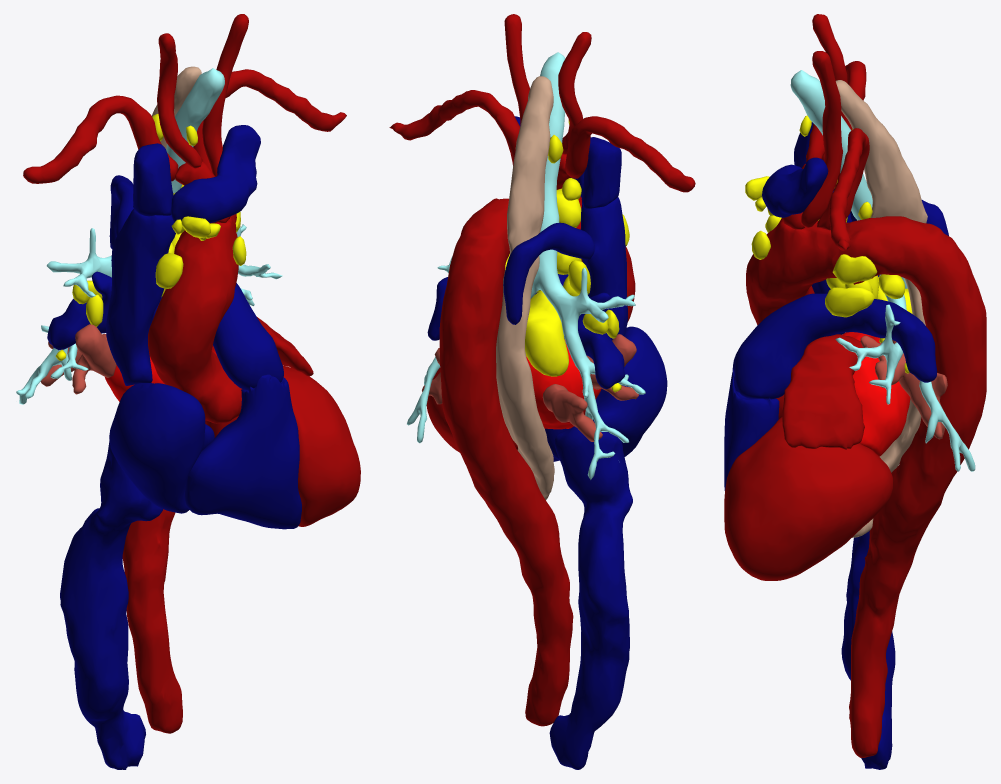
The model's file is CT_segmentation_2.glb.
The picture shows the model from 3 angles, left to right: view 1: azimuth 30°, elevation 25°; view 2: azimuth 150°, elevation 25°; view 3: azimuth 270°, elevation 25°; orthographic projection. The views are drawn at different scales.
Visible parts, largest first — view 1: aorta, inferior vena cava, right ventricle, right atrium, superior vena cava, left ventricle, pulmonary artery, airway, left brachiocephalic vein, right subclavian artery, left subclavian artery, right brachiocephalic vein (+10 smaller); view 2: aorta, inferior vena cava, esophagus, airway, right atrium, superior vena cava, right subclavian artery, azygous vein, pulmonary venous system, Station 7, left subclavian artery, pulmonary artery (+7 smaller); view 3: aorta, left ventricle, pulmonary artery, left atrial appendage, esophagus, airway, left atrium, inferior vena cava, left common carotid artery, right ventricle, left subclavian artery, left brachiocephalic vein (+8 smaller).
Boxes of the visible parts, x1,y1,x2,y2 form: aorta: [122, 214, 242, 733]; inferior vena cava: [60, 440, 162, 769]; right ventricle: [184, 374, 301, 529]; right atrium: [109, 383, 214, 513]; superior vena cava: [106, 209, 175, 385]; left ventricle: [205, 366, 360, 526]; pulmonary artery: [47, 271, 283, 390]; airway: [16, 68, 282, 404]; left brachiocephalic vein: [171, 125, 260, 222]; right subclavian artery: [23, 95, 178, 183]; left subclavian artery: [193, 69, 346, 171]; right brachiocephalic vein: [133, 143, 173, 216]; aorta: [439, 196, 635, 726]; inferior vena cava: [549, 426, 632, 769]; esophagus: [496, 76, 554, 499]; airway: [407, 52, 645, 479]; right atrium: [545, 326, 667, 460]; superior vena cava: [580, 197, 627, 340]; right subclavian artery: [565, 116, 695, 192]; azygous vein: [503, 222, 594, 324]; pulmonary venous system: [422, 334, 638, 441]; Station 7: [525, 290, 568, 376]; left subclavian artery: [389, 90, 519, 165]; pulmonary artery: [427, 274, 624, 389]; aorta: [746, 216, 986, 757]; left ventricle: [724, 417, 892, 580]; pulmonary artery: [734, 275, 937, 399]; left atrial appendage: [782, 334, 865, 449]; esophagus: [835, 80, 927, 537]; airway: [790, 70, 975, 471]; left atrium: [842, 332, 910, 456]; inferior vena cava: [841, 531, 895, 769]; left common carotid artery: [801, 51, 842, 227]; right ventricle: [724, 369, 779, 490]; left subclavian artery: [817, 128, 869, 250]; left brachiocephalic vein: [762, 157, 828, 217].
Size of the model in its own units: 0.1796 by 0.3993 by 0.125.
